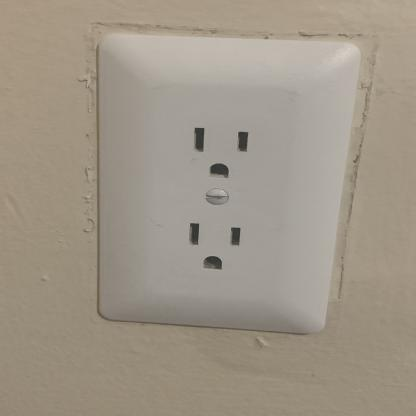OUTLET: (92, 30, 354, 337)
